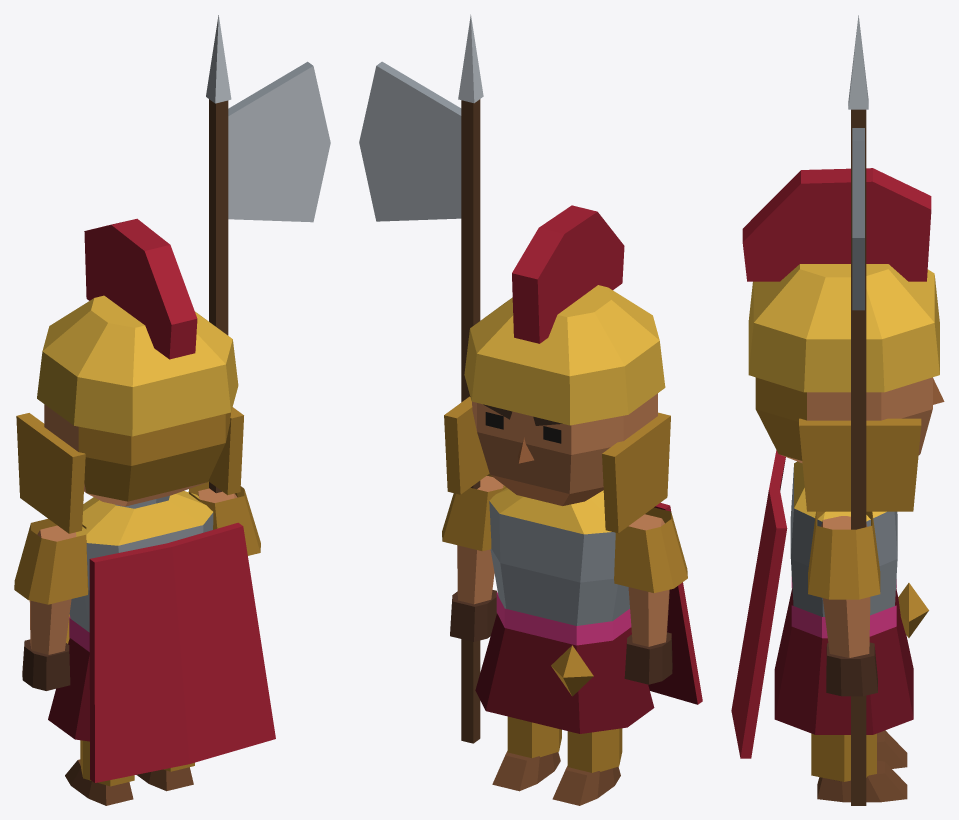
The model's file is EN_GildedMercenary.fbx.
3 renders of one model, left to right at view 1: azimuth 30°, elevation 25°; view 2: azimuth 150°, elevation 25°; view 3: azimuth 270°, elevation 25°, orthographic. The views are drawn at different scales.
Parts seen in each view (by area): view 1: Body, Head, ArmR, ArmL, LegL, LegR; view 2: Head, Body, ArmR, ArmL, LegL, LegR; view 3: Head, Body, ArmR, LegR, LegL.
Boxes of the visible parts, x1,y1,x2,y2 form: Body: [48, 491, 275, 782]; Head: [16, 218, 243, 533]; ArmR: [188, 15, 330, 555]; ArmL: [14, 518, 88, 690]; LegL: [65, 740, 134, 805]; LegR: [136, 762, 194, 791]; Head: [444, 205, 670, 533]; Body: [475, 485, 702, 733]; ArmR: [359, 14, 506, 743]; ArmL: [614, 507, 687, 684]; LegL: [552, 728, 622, 805]; LegR: [492, 716, 561, 791]; Head: [742, 168, 944, 511]; Body: [731, 450, 928, 758]; ArmR: [808, 15, 880, 805]; LegR: [811, 733, 907, 802]; LegL: [877, 730, 907, 768].
Size of the model in its own units: 1.09 by 0.5927 by 2.48.
